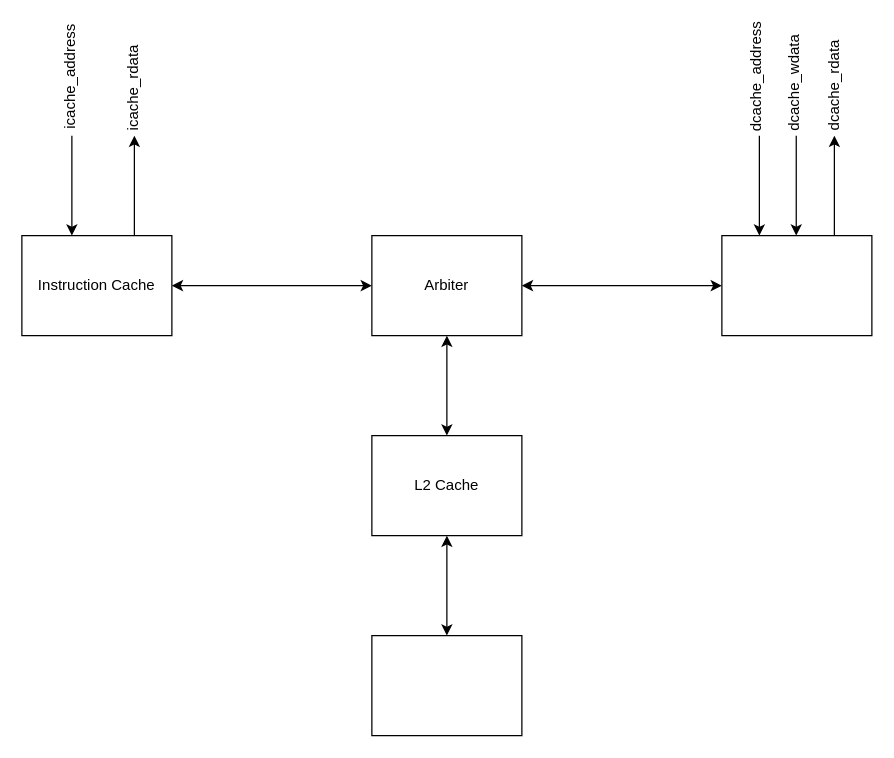
This 894x758 diagram has some shape labels left out. Each missing label, with the centre of its shape:
Data Cache: point (796, 285)
Physical Memory: point (446, 685)
